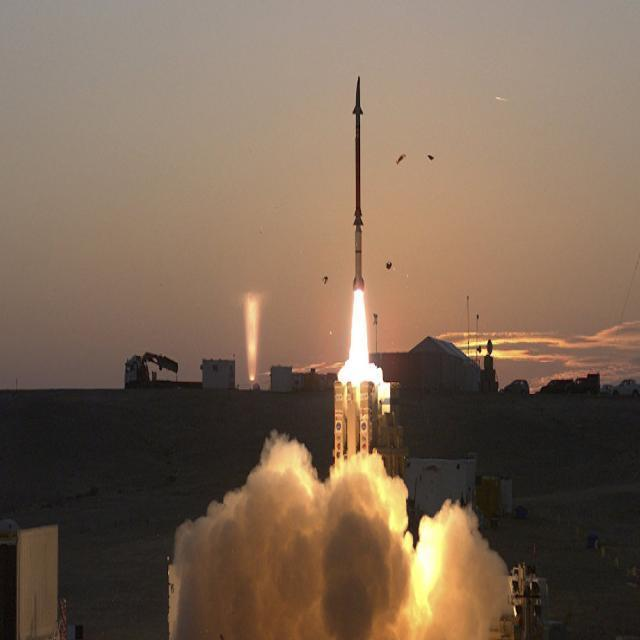Missile: (351, 64, 367, 309)
